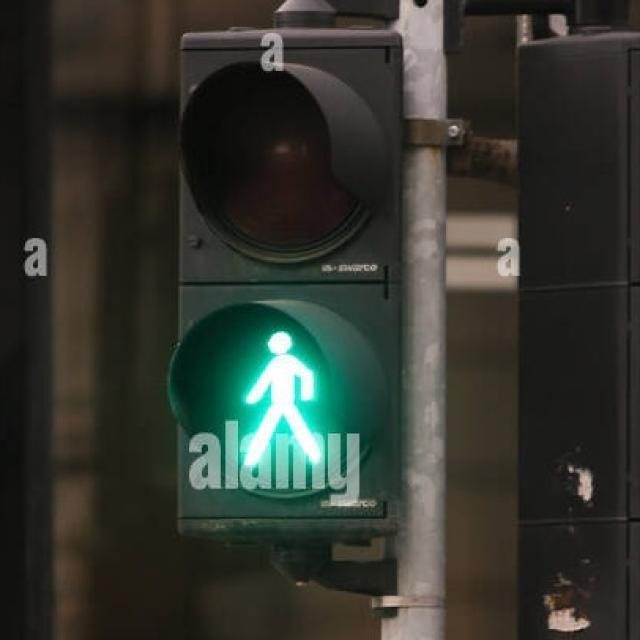geen-crossing: (235, 319, 328, 476)
